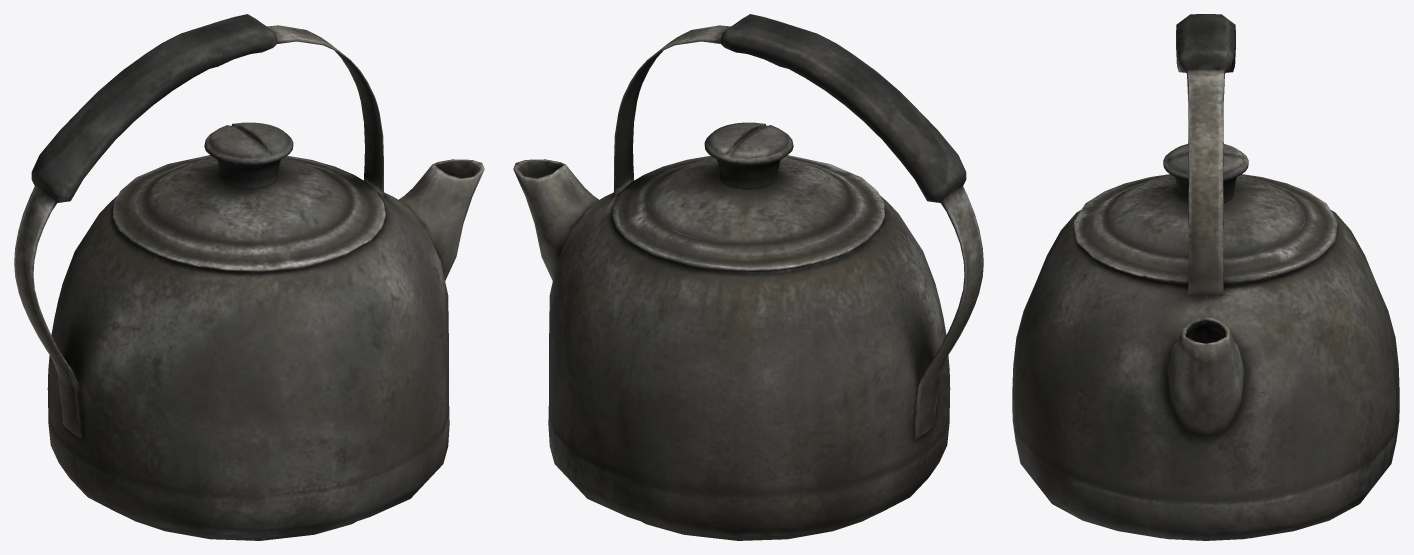
The model's file is TeaKettle.fbx.
3 views of the same model, side by side, from view 1: azimuth 30°, elevation 25°; view 2: azimuth 150°, elevation 25°; view 3: azimuth 270°, elevation 25° (orthographic). The views are drawn at different scales.
Parts seen in each view (by area): view 1: TeaKettle; view 2: TeaKettle; view 3: TeaKettle.
Boxes of the visible parts, bbox=[...] form: TeaKettle: bbox=[14, 14, 484, 540]; TeaKettle: bbox=[513, 14, 983, 540]; TeaKettle: bbox=[1012, 14, 1399, 540].
Size of the model in its own units: 0.2701 by 0.2558 by 0.2056.
Materials: 1 (1 with a texture image).
